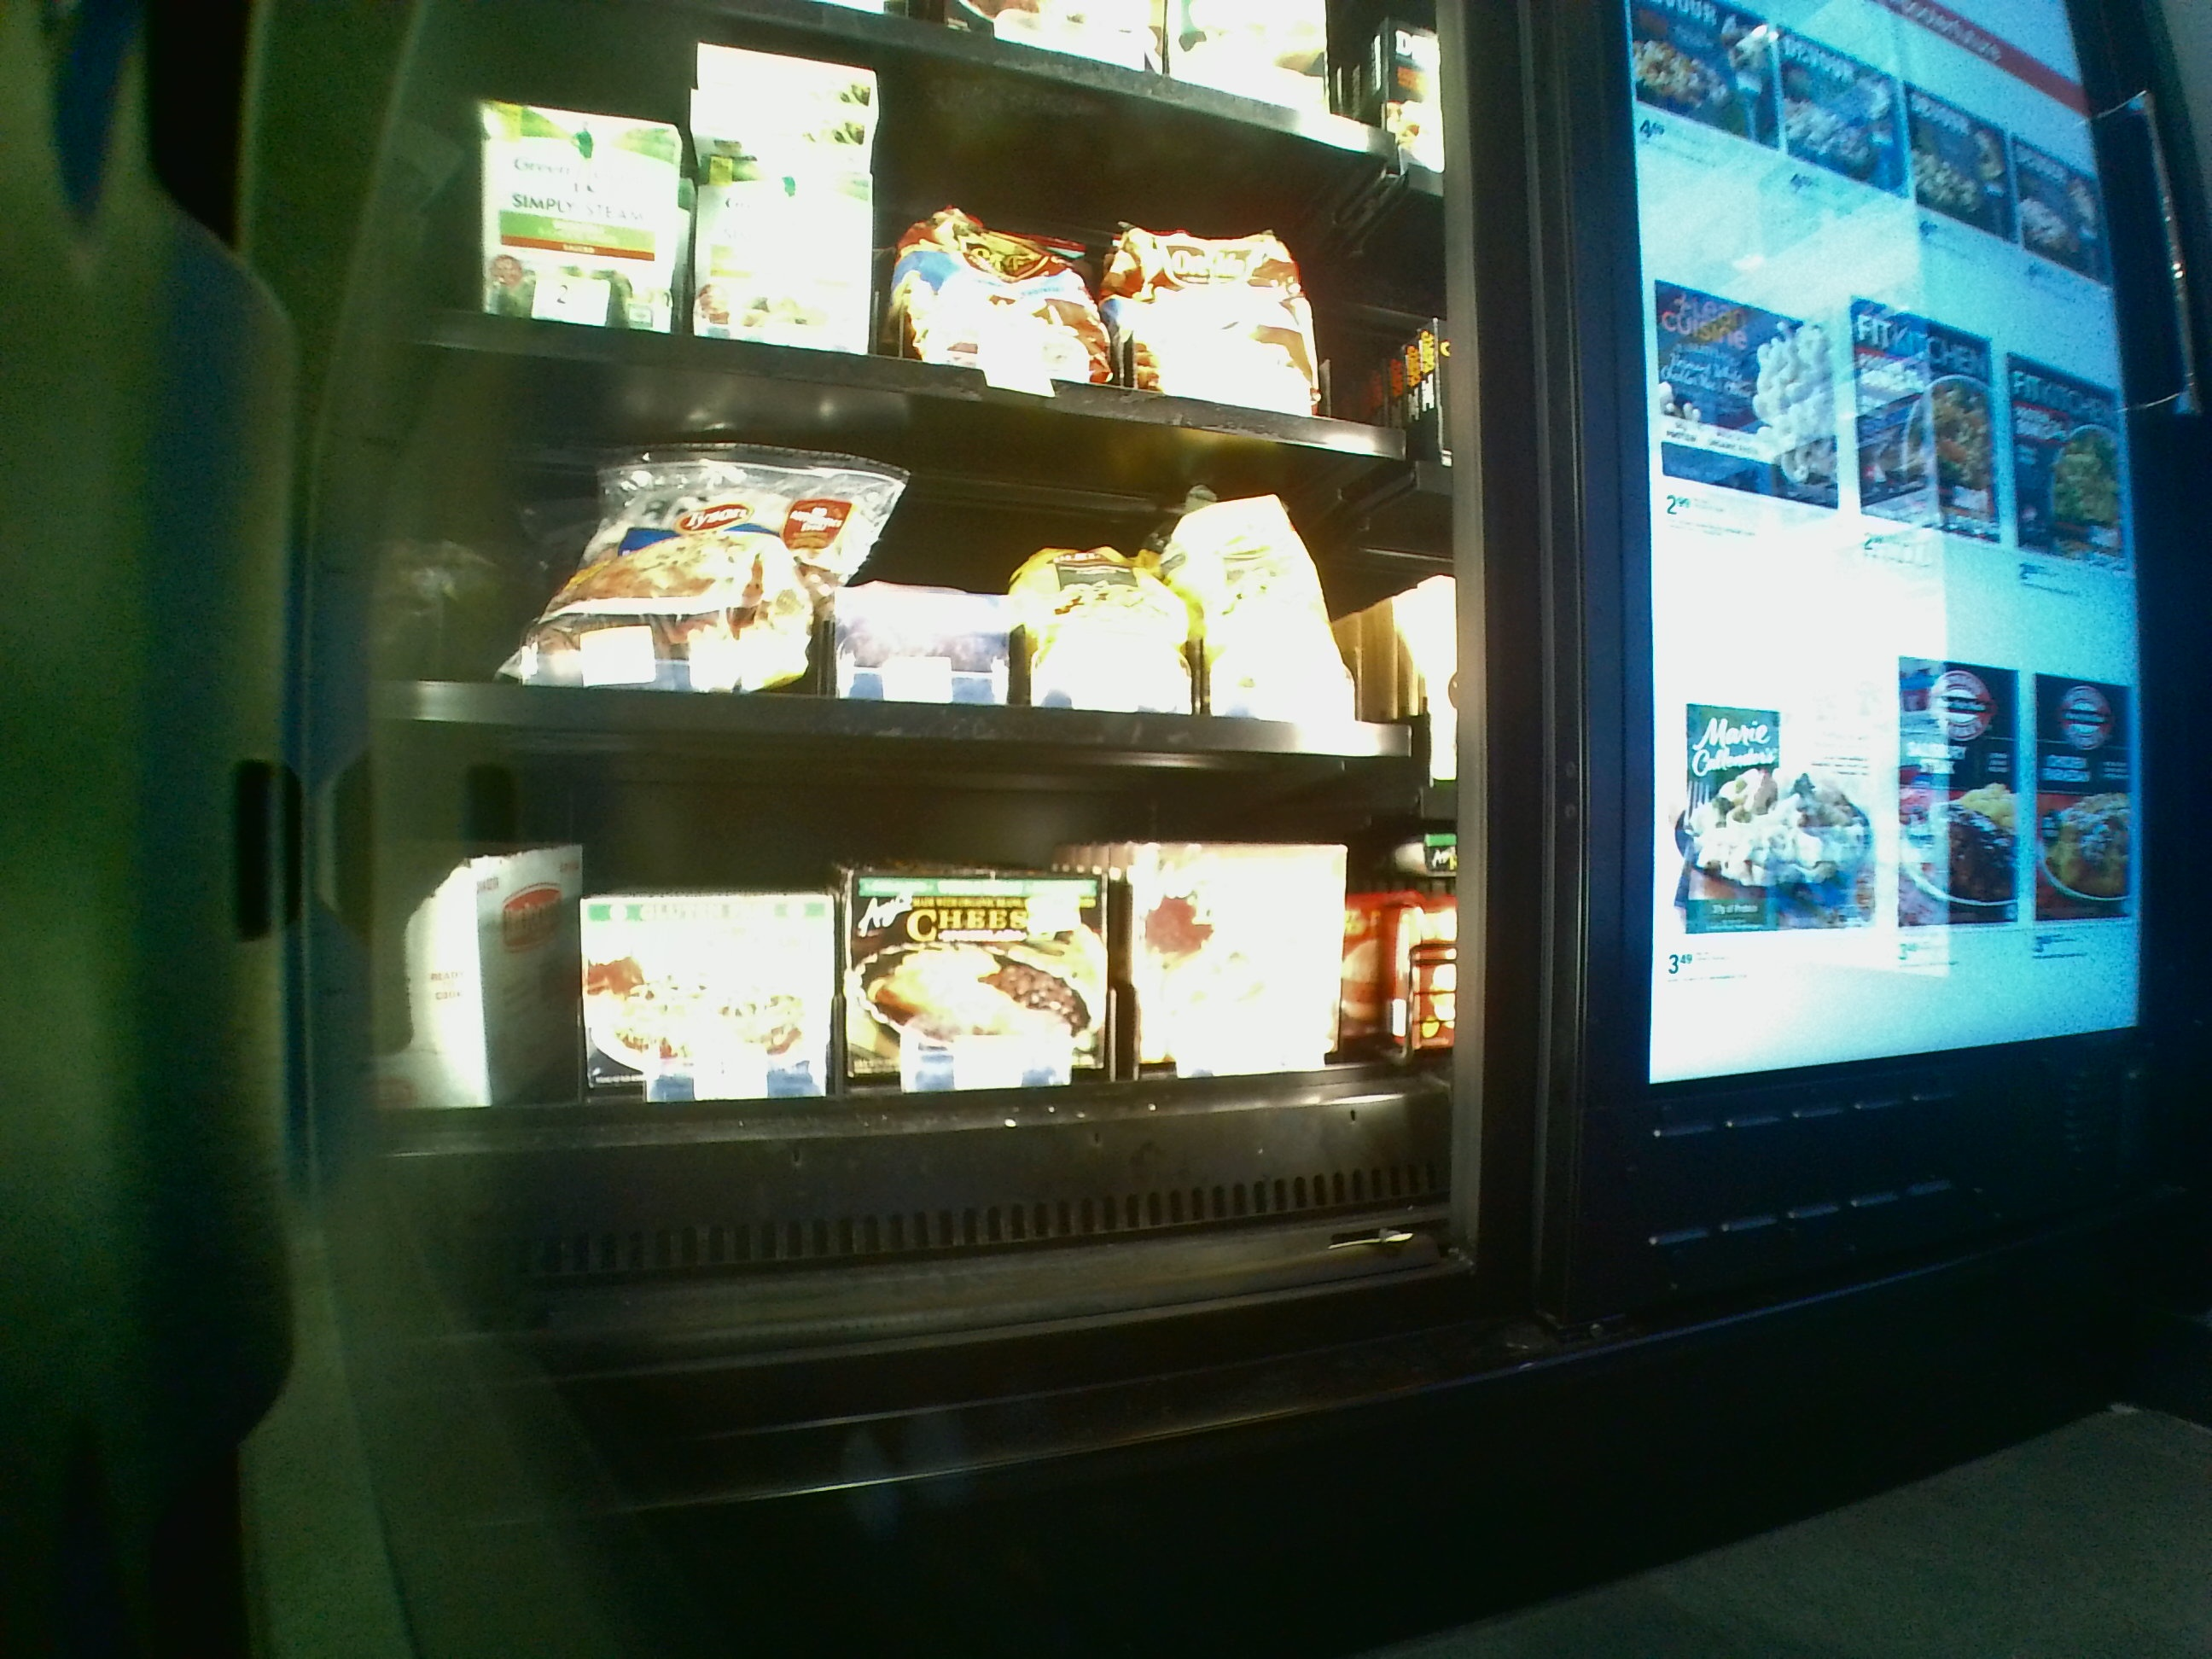shelf: (380, 751, 1453, 1258), (374, 345, 1444, 742)
